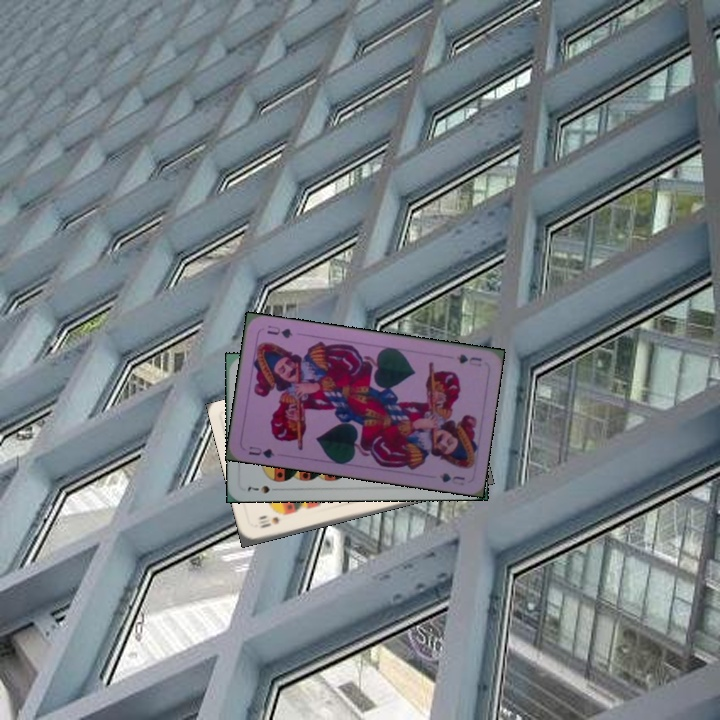GU: (452, 350, 485, 369), (245, 442, 277, 461)
S10: (254, 514, 283, 531)
S7: (244, 482, 282, 496)
